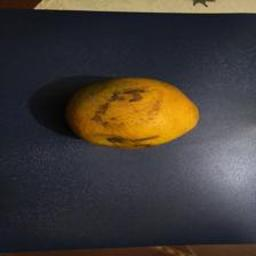Orange Semifresh: (62, 65, 200, 156)
